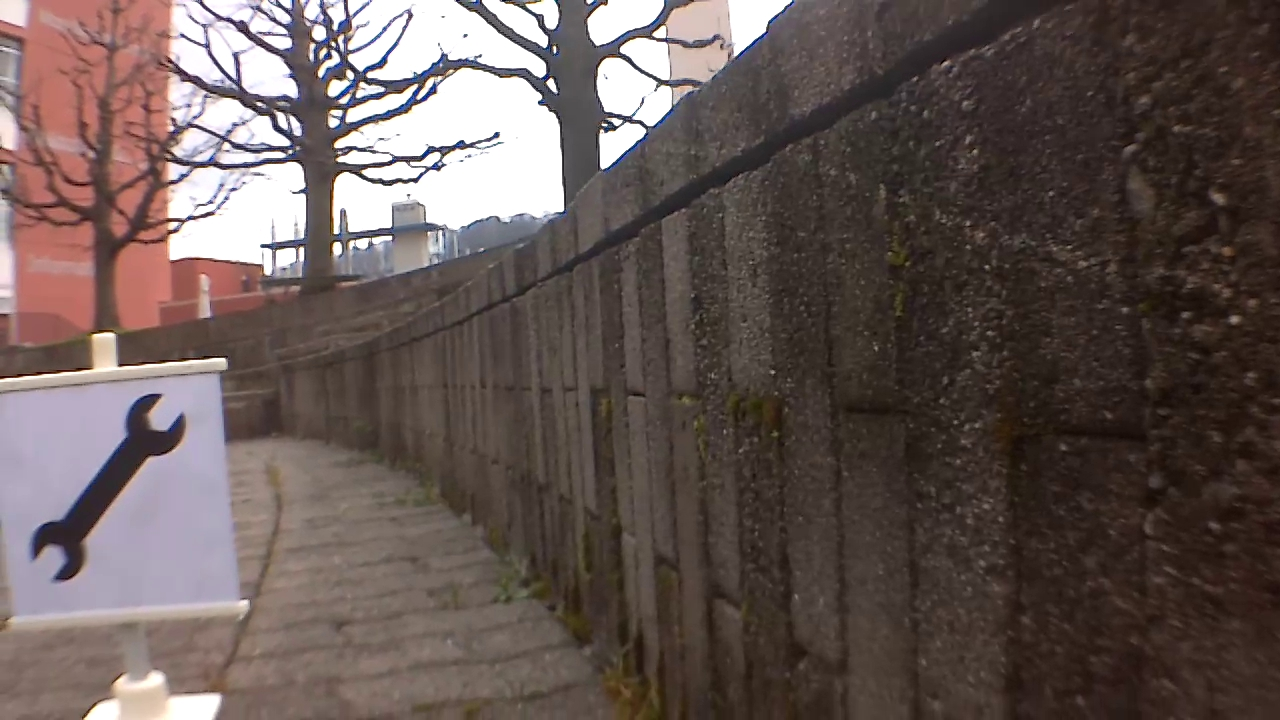wrench: (30, 389, 194, 587)
